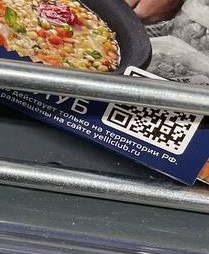2d: (104, 69, 208, 153)
